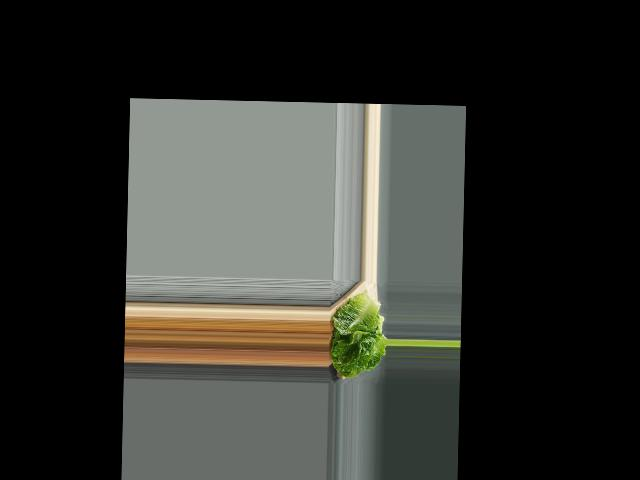lettuce: (327, 292, 387, 381)
